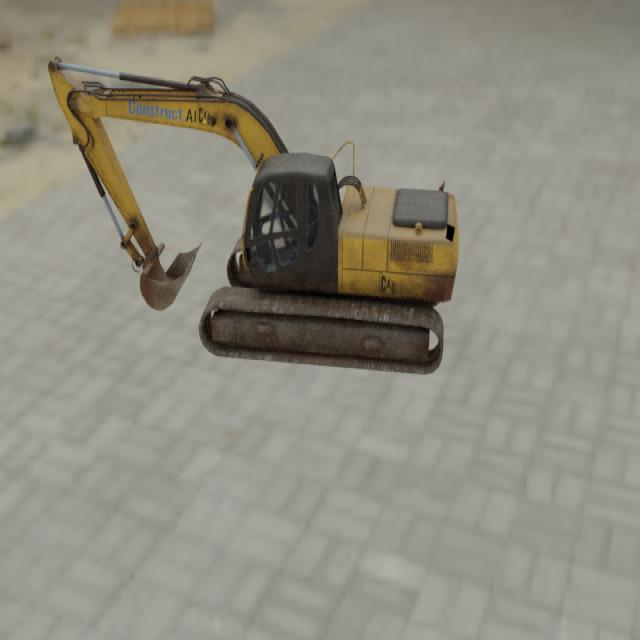excavator: (47, 54, 459, 374)
